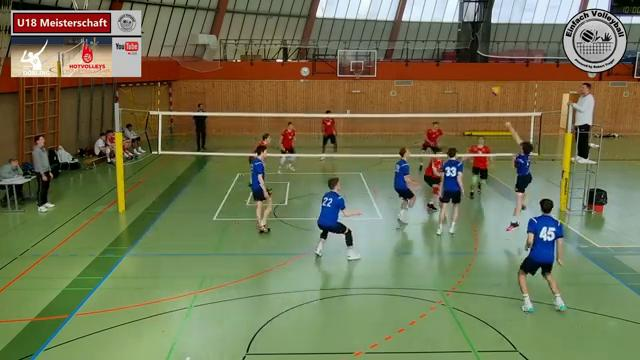Attack: (503, 118, 536, 233)
Player: (518, 199, 566, 312), (315, 177, 361, 259), (436, 148, 463, 234), (394, 147, 417, 223), (251, 146, 271, 232), (424, 157, 442, 210), (278, 122, 295, 172), (470, 156, 488, 198), (322, 110, 337, 153), (253, 133, 270, 153), (419, 158, 422, 170)
ball: (491, 84, 501, 97)
